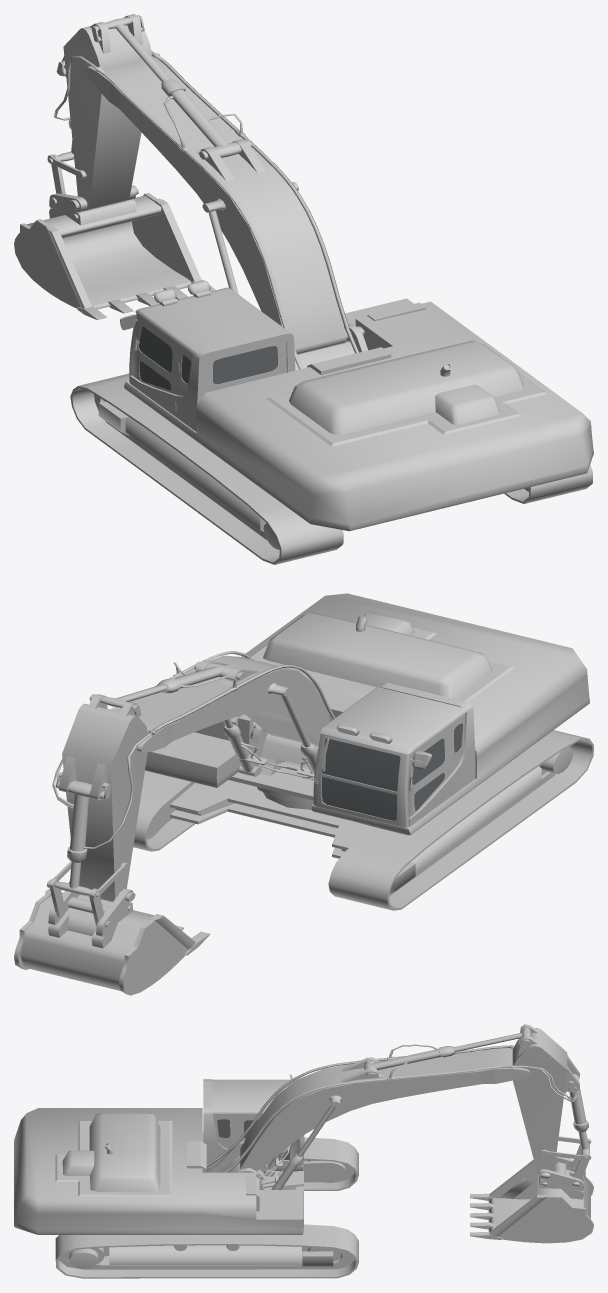
The model's file is hydraExc.FBX.
The picture shows the model from 3 angles, top to bottom: view 1: azimuth 30°, elevation 25°; view 2: azimuth 150°, elevation 25°; view 3: azimuth 270°, elevation 25°; orthographic projection. The views are drawn at different scales.
Visible parts, largest first — view 1: hydraExc_crane, hydraExc_body, hydraExc_treads, hydraExc_window; view 2: hydraExc_crane, hydraExc_body, hydraExc_treads, hydraExc_window; view 3: hydraExc_body, hydraExc_crane, hydraExc_treads, hydraExc_window.
Part boxes in pixels (<box>): hydraExc_crane: <box>14,14,367,431</box>; hydraExc_body: <box>98,298,593,549</box>; hydraExc_treads: <box>70,373,592,564</box>; hydraExc_window: <box>139,326,277,390</box>; hydraExc_crane: <box>14,651,475,995</box>; hydraExc_body: <box>145,593,589,893</box>; hydraExc_treads: <box>133,730,593,910</box>; hydraExc_window: <box>321,723,462,820</box>; hydraExc_body: <box>14,1108,346,1268</box>; hydraExc_crane: <box>203,1024,593,1243</box>; hydraExc_treads: <box>55,1137,358,1278</box>; hydraExc_window: <box>217,1119,290,1159</box>.
Size of the model in its own units: 242 by 202 by 544.
